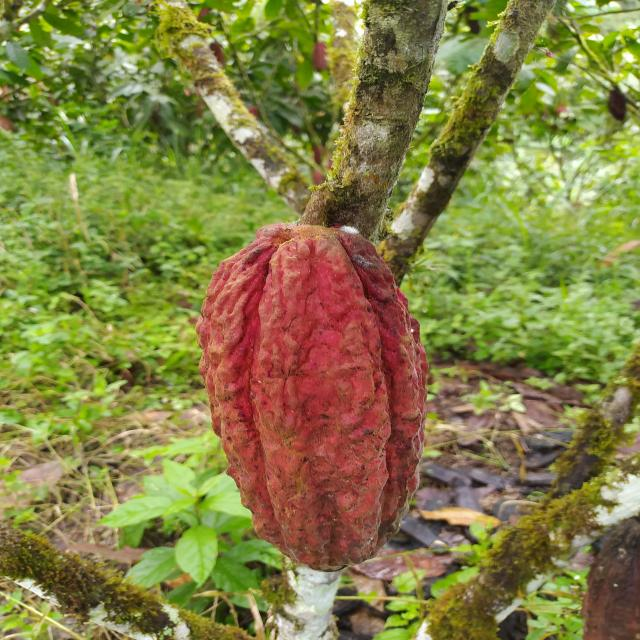Sana: (195, 221, 432, 575)
